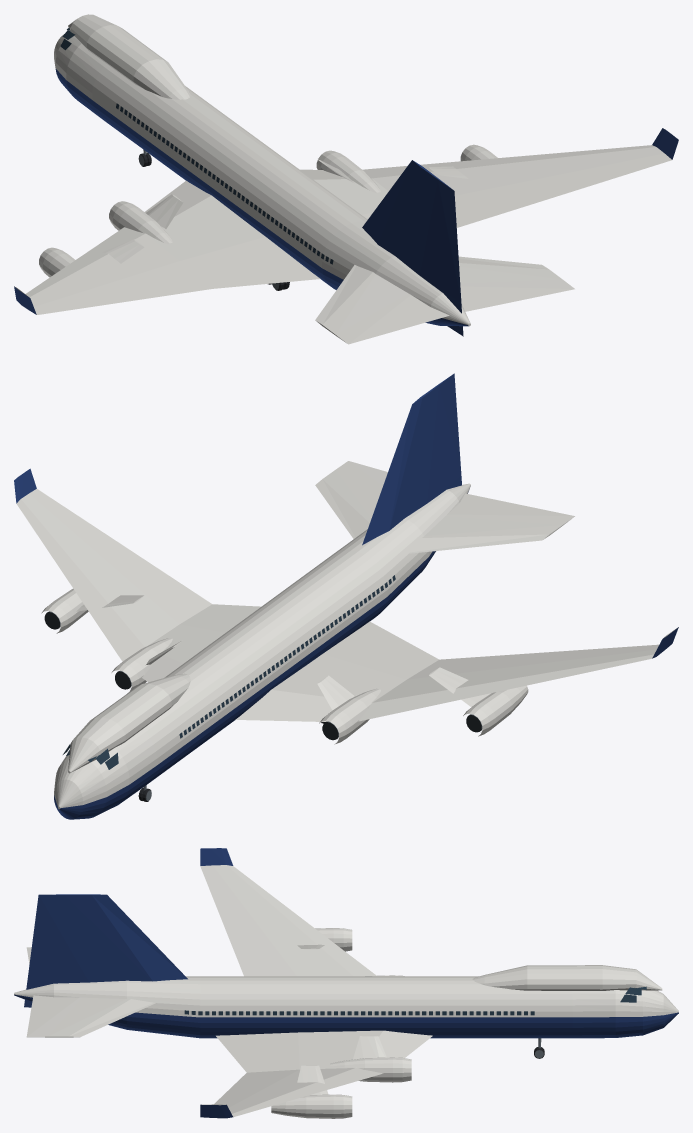
The picture shows the model from 3 angles, top to bottom: view 1: azimuth 30°, elevation 25°; view 2: azimuth 150°, elevation 25°; view 3: azimuth 270°, elevation 25°; orthographic projection. The views are drawn at different scales.
Visible parts, largest first — view 1: airframe; view 2: airframe; view 3: airframe.
Part boxes in pixels (left/top/right/bottom): airframe: left=14, top=14, right=678, bottom=344; airframe: left=14, top=373, right=678, bottom=819; airframe: left=14, top=848, right=678, bottom=1118.
Size of the model in its own units: 64.44 by 19.12 by 70.67.
